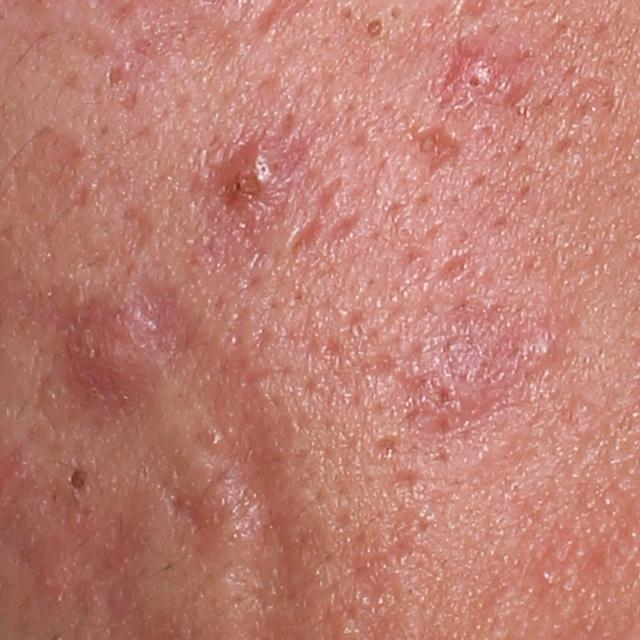atrophic_scar: (283, 178, 343, 257), (555, 73, 617, 122), (411, 129, 460, 186), (122, 203, 159, 251), (430, 254, 473, 283), (502, 75, 538, 109), (370, 433, 401, 458), (389, 466, 424, 488)
comedo: (62, 456, 94, 496), (360, 13, 389, 43), (385, 1, 409, 25)
nodule: (54, 300, 184, 426)
papule: (215, 152, 283, 209), (444, 43, 506, 101), (523, 326, 562, 366)
